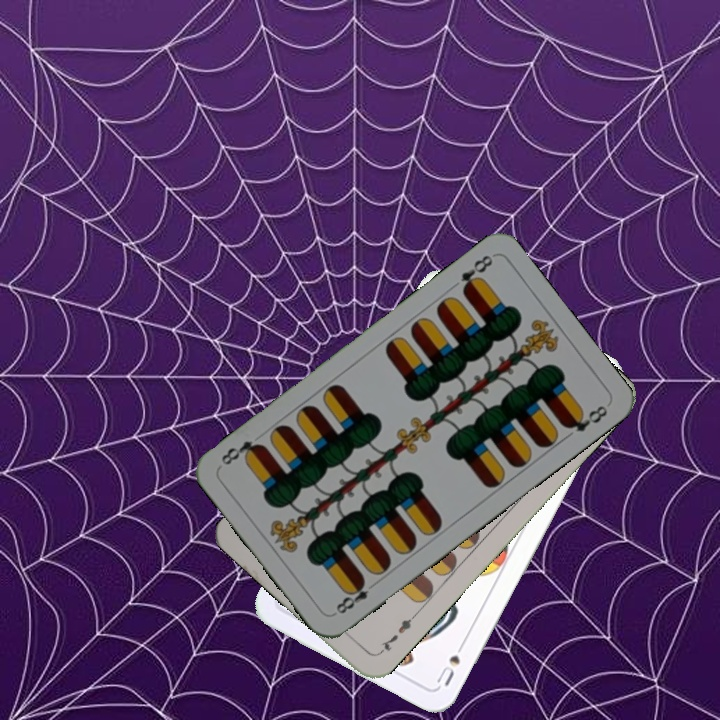E7: (373, 610, 419, 658)
E8: (330, 575, 381, 618), (456, 251, 496, 297)
SU: (432, 635, 470, 689)
